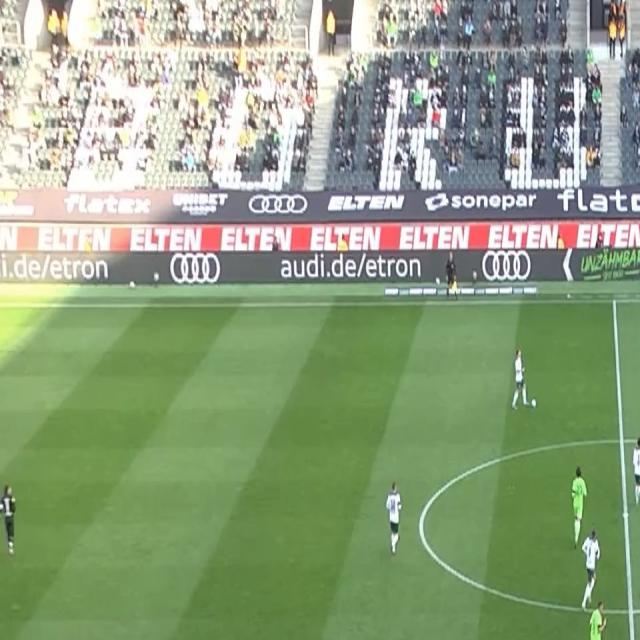ball: (530, 397, 538, 409)
